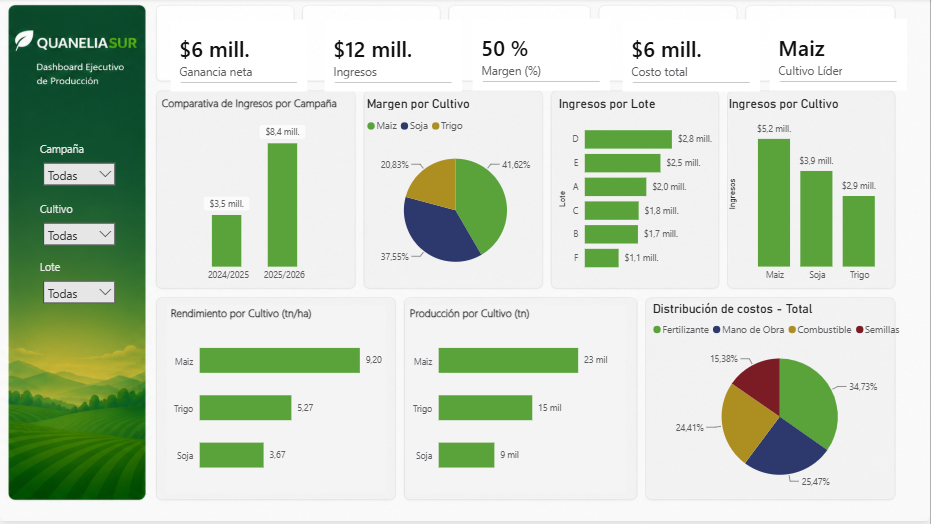

This screenshot's page, from the dashboard's own definition file:
{"tool":"powerbi","page":{"name":"QuaneliaSur_1.0","canvas":[1280,720],"ordinal":0},"visuals":[{"type":"barChart","title":"Producción por Cultivo (tn)","fields":{"Category":["Agro Producción.Cultivo"],"Y":["Agro Producción.Producción Total"]},"box":[558.8,422.8,302.8,258.9],"z":0},{"type":"clusteredBarChart","title":"Rendimiento por Cultivo (tn/ha)","fields":{"Category":["Agro Producción.Cultivo"],"Y":["Agro Producción.Rendimiento tn/ha"]},"box":[229.7,422.8,301.3,258.9],"z":1000},{"type":"lineStackedColumnComboChart","title":"Comparativa de Ingresos por Campaña","fields":{"Category":["Calendario.Campaña"],"Y":["Agro Producción.Ingresos Totales"]},"box":[218,133.1,270.6,266.2],"z":2000},{"type":"cardVisual","fields":{"Data":["Agro Costos.Ganancia real"]},"box":[229.7,24.9,198.9,109],"z":3000},{"type":"cardVisual","fields":{"Data":["Agro Costos.Costo total de campaña"]},"box":[851.4,24.9,199,109.7],"z":4000},{"type":"cardVisual","fields":{"Data":["Agro Producción.Ingresos Totales"]},"box":[441.8,24.9,199,109],"z":5000},{"type":"cardVisual","fields":{"Data":["Agro Costos.Margen de campaña"]},"box":[645.1,23.4,199,109],"z":6000},{"type":"cardVisual","fields":{"Data":["Agro Producción.Cultivo Líder"]},"box":[1054.7,23.4,199,109.7],"z":7000},{"type":"slicer","title":"Campaña","fields":{"Values":["Calendario.Campaña"]},"box":[50,197.3,118.9,82.4],"z":8000},{"type":"slicer","title":"Cultivo","fields":{"Values":["Agro Producción.Cultivo"]},"box":[50,279.7,118.9,83.8],"z":9000},{"type":"slicer","title":"Lote","fields":{"Values":["Agro Producción.Lote"]},"box":[50,359.5,118.9,83.8],"z":10000},{"type":"clusteredColumnChart","fields":{"Category":["Agro Producción.Cultivo"],"Y":["Agro Producción.Ingresos Totales"]},"box":[997.7,134.6,237,264.8],"z":11000},{"type":"pieChart","fields":{"Category":["Agro Producción.Cultivo"],"Y":["Agro Costos.Margen de campaña"]},"box":[500.3,134.6,254.5,264.8],"z":12000},{"type":"barChart","fields":{"Category":["Agro Producción.Lote"],"Y":["Agro Producción.Ingresos Totales"]},"box":[763.6,134.6,220.9,254.5],"z":13000},{"type":"pieChart","fields":{"Category":["TiposCosto.TipoCosto"],"Y":["Agro Costos.Valor Costo"]},"box":[893.8,416.9,359.9,270.6],"z":14000}]}

Visuals, with their boxes in screenshot pixels (x1, y1, x2, y2), scaled from the page's 1280x720 canvas onto the 932x524 screenshot:
"Producción por Cultivo (tn)" barChart: crop(407, 308, 627, 496)
"Rendimiento por Cultivo (tn/ha)" clusteredBarChart: crop(167, 308, 387, 496)
"Comparativa de Ingresos por Campaña" lineStackedColumnComboChart: crop(159, 97, 356, 291)
cardVisual - Agro Costos.Ganancia real: crop(167, 18, 312, 97)
cardVisual - Agro Costos.Costo total de campaña: crop(620, 18, 765, 98)
cardVisual - Agro Producción.Ingresos Totales: crop(322, 18, 467, 97)
cardVisual - Agro Costos.Margen de campaña: crop(470, 17, 615, 96)
cardVisual - Agro Producción.Cultivo Líder: crop(768, 17, 913, 97)
"Campaña" slicer: crop(36, 144, 123, 204)
"Cultivo" slicer: crop(36, 204, 123, 265)
"Lote" slicer: crop(36, 262, 123, 323)
clusteredColumnChart - Agro Producción.Cultivo x Agro Producción.Ingresos Totales: crop(726, 98, 899, 291)
pieChart - Agro Producción.Cultivo x Agro Costos.Margen de campaña: crop(364, 98, 550, 291)
barChart - Agro Producción.Lote x Agro Producción.Ingresos Totales: crop(556, 98, 717, 283)
pieChart - TiposCosto.TipoCosto x Agro Costos.Valor Costo: crop(651, 303, 913, 500)
